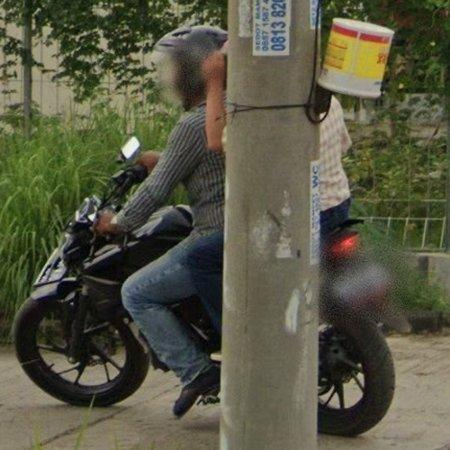motorcycles: (13, 164, 192, 406), (319, 220, 396, 436), (173, 299, 220, 352)
